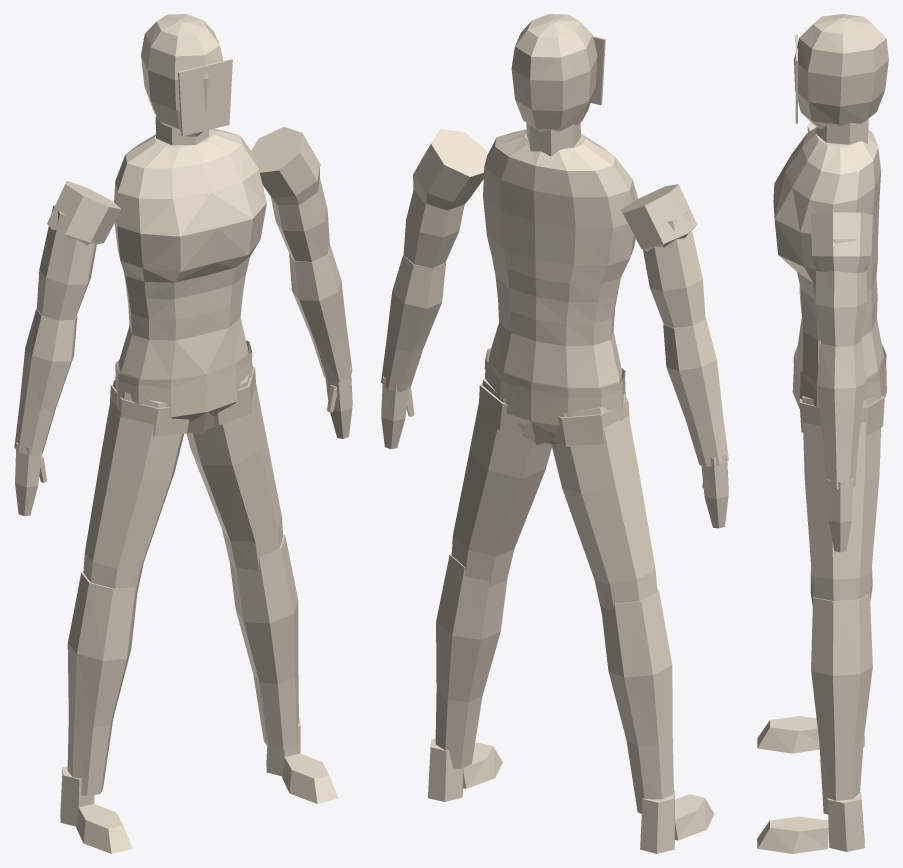
Rendered from paper-man-1.glb.
3 views of the same model, side by side, from view 1: azimuth 30°, elevation 25°; view 2: azimuth 150°, elevation 25°; view 3: azimuth 270°, elevation 25° (orthographic). The views are drawn at different scales.
Visible parts, largest first — view 1: torso, leg_upper_l, leg_lower_l, leg_upper_r, leg_lower_r, head, arm_lower_l, arm_lower_r, arm_upper_l, deltoid_r, briefs, face (+12 smaller); view 2: torso, leg_upper_l, leg_lower_l, leg_upper_r, leg_lower_r, head, arm_lower_l, arm_lower_r, arm_upper_l, deltoid_r, briefs, deltoid_l (+11 smaller); view 3: torso, leg_lower_r, head, leg_upper_r, arm_lower_r, arm_upper_r, deltoid_r, foot_front_r, foot_front_l, foot_r, hand_r, briefs_leg_r (+3 smaller).
Part boxes in pixels (bbox=[...]): torso: bbox=[114, 128, 266, 433]; leg_upper_l: bbox=[83, 379, 183, 598]; leg_lower_l: bbox=[67, 572, 137, 795]; leg_upper_r: bbox=[186, 363, 282, 570]; leg_lower_r: bbox=[229, 534, 298, 749]; head: bbox=[141, 14, 223, 136]; arm_lower_l: bbox=[14, 309, 77, 455]; arm_lower_r: bbox=[289, 245, 352, 382]; arm_upper_l: bbox=[36, 204, 96, 320]; deltoid_r: bbox=[251, 127, 320, 205]; briefs: bbox=[115, 341, 252, 434]; face: bbox=[178, 59, 232, 136]; torso: bbox=[483, 129, 637, 444]; leg_upper_l: bbox=[551, 393, 657, 611]; leg_lower_l: bbox=[601, 587, 673, 813]; leg_upper_r: bbox=[451, 377, 551, 587]; leg_lower_r: bbox=[435, 551, 507, 768]; head: bbox=[511, 14, 597, 131]; arm_lower_l: bbox=[663, 318, 728, 466]; arm_lower_r: bbox=[381, 254, 445, 391]; arm_upper_l: bbox=[643, 211, 705, 327]; deltoid_r: bbox=[413, 129, 487, 210]; briefs: bbox=[485, 348, 625, 444]; deltoid_l: bbox=[621, 184, 696, 251]; torso: bbox=[773, 127, 883, 382]; leg_lower_r: bbox=[811, 594, 872, 814]; head: bbox=[794, 14, 888, 128]; leg_upper_r: bbox=[802, 394, 882, 601]; arm_lower_r: bbox=[817, 339, 865, 489]; arm_upper_r: bbox=[815, 238, 866, 346]; deltoid_r: bbox=[811, 212, 872, 273]; foot_front_r: bbox=[757, 816, 828, 853]; foot_front_l: bbox=[757, 716, 819, 753]; foot_r: bbox=[827, 791, 864, 851]; hand_r: bbox=[827, 479, 853, 552]; briefs_leg_r: bbox=[799, 396, 884, 436].
Bounding box in the file's own units: 0.8444 × 1.85 × 0.2858.
